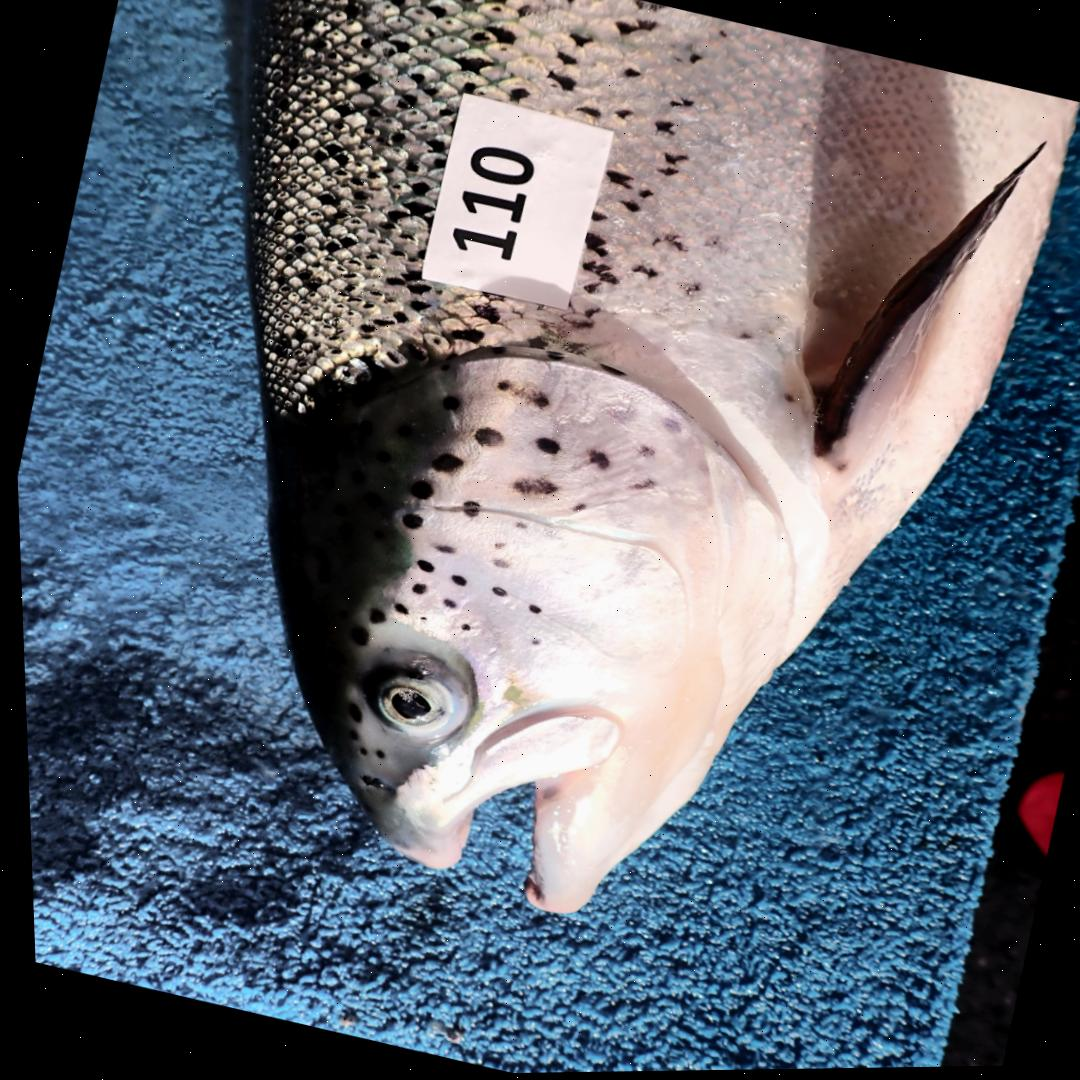spot: (492, 380, 545, 410), (509, 479, 552, 496), (427, 453, 459, 473), (470, 427, 500, 447), (602, 404, 630, 423), (406, 479, 430, 500), (583, 450, 606, 470), (531, 437, 556, 455), (626, 477, 653, 493), (657, 418, 680, 435), (397, 513, 418, 530), (458, 500, 476, 518), (597, 365, 621, 377), (633, 445, 652, 459), (411, 560, 431, 573), (542, 350, 562, 363), (439, 396, 456, 411), (429, 543, 451, 554), (365, 609, 381, 624), (445, 575, 462, 587), (487, 558, 505, 569), (389, 602, 403, 615), (410, 614, 425, 626), (487, 586, 503, 597), (565, 504, 581, 514), (407, 583, 420, 595), (437, 598, 451, 609), (455, 623, 466, 632), (523, 606, 535, 614), (510, 522, 522, 530), (489, 543, 501, 549), (526, 640, 534, 645)
